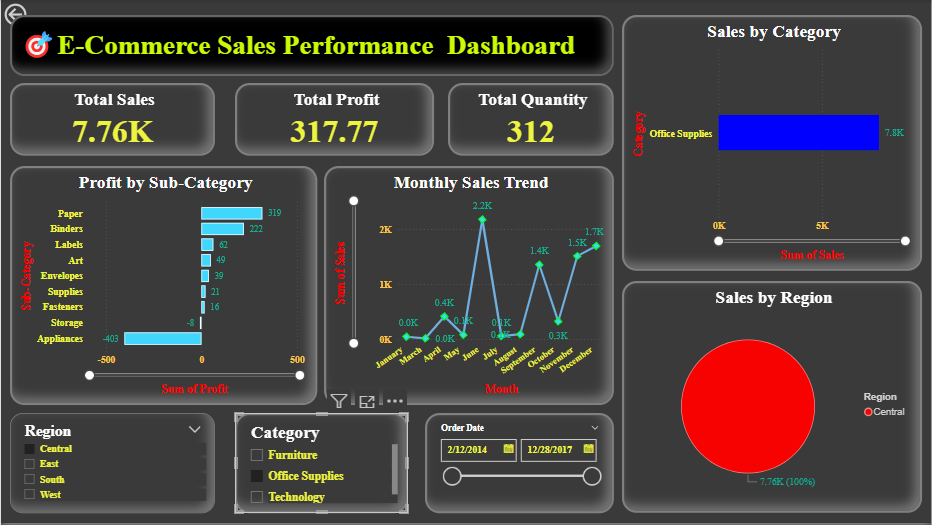

The dashboard page shown, as its layout file describes it:
{"tool":"powerbi","page":{"name":"Page 1","canvas":[1280,720],"ordinal":0},"visuals":[{"type":"actionButton","box":[0,0,100,40],"z":0},{"type":"card","title":"Total Sales","fields":{"Values":["Sum(Ecommerce_Sales_Data.Sales)"]},"box":[12.4,114.2,282.2,100.5],"z":1000},{"type":"card","title":"Total Profit","fields":{"Values":["Sum(Ecommerce_Sales_Data.Profit)"]},"box":[322.1,114.2,273.9,100.5],"z":2000},{"type":"card","title":"Total Quantity","fields":{"Values":["Sum(Ecommerce_Sales_Data.Quantity)"]},"box":[615.2,114.2,228.5,100.5],"z":3000},{"type":"clusteredBarChart","title":"Sales by Category","fields":{"Category":["Ecommerce_Sales_Data.Category"],"Y":["Sum(Ecommerce_Sales_Data.Sales)"]},"box":[854.7,20.6,412.9,352.3],"z":4000},{"type":"clusteredBarChart","title":"Profit by Sub-Category","fields":{"Category":["Ecommerce_Sales_Data.Sub-Category"],"Y":["Sum(Ecommerce_Sales_Data.Profit)"]},"box":[12.4,228.5,422.5,328.9],"z":5000},{"type":"lineChart","title":"Monthly Sales Trend","fields":{"Category":["Ecommerce_Sales_Data.Order Date.Variation.Date Hierarchy.Month"],"Y":["Sum(Ecommerce_Sales_Data.Sales)"]},"box":[444.6,228.5,399.1,328.9],"z":6000},{"type":"pieChart","title":"Sales by Region","fields":{"Category":["Ecommerce_Sales_Data.Region"],"Y":["Sum(Ecommerce_Sales_Data.Sales)"]},"box":[854.7,386.8,412.9,319.3],"z":7000},{"type":"slicer","title":"Region","fields":{"Values":["Ecommerce_Sales_Data.Region"]},"box":[12.4,568.4,282.2,137.6],"z":8000},{"type":"slicer","title":"Category","fields":{"Values":["Ecommerce_Sales_Data.Category"]},"box":[322.1,568.4,238.1,137.6],"z":9000},{"type":"slicer","title":"Order Date","fields":{"Values":["Ecommerce_Sales_Data.Order Date"]},"box":[583.6,568.4,260.1,137.6],"z":10000},{"type":"textbox","box":[12.4,20.6,831.3,84],"z":11000}]}

Visuals, with their boxes in screenshot pixels (x1, y1, x2, y2), scaled from the page's 1280x720 canvas onto the 932x525 screenshot:
actionButton: region(0, 0, 73, 29)
"Total Sales" card: region(9, 83, 215, 157)
"Total Profit" card: region(235, 83, 434, 157)
"Total Quantity" card: region(448, 83, 614, 157)
"Sales by Category" clusteredBarChart: region(622, 15, 923, 272)
"Profit by Sub-Category" clusteredBarChart: region(9, 167, 317, 406)
"Monthly Sales Trend" lineChart: region(324, 167, 614, 406)
"Sales by Region" pieChart: region(622, 282, 923, 515)
"Region" slicer: region(9, 414, 215, 515)
"Category" slicer: region(235, 414, 408, 515)
"Order Date" slicer: region(425, 414, 614, 515)
textbox: region(9, 15, 614, 76)
